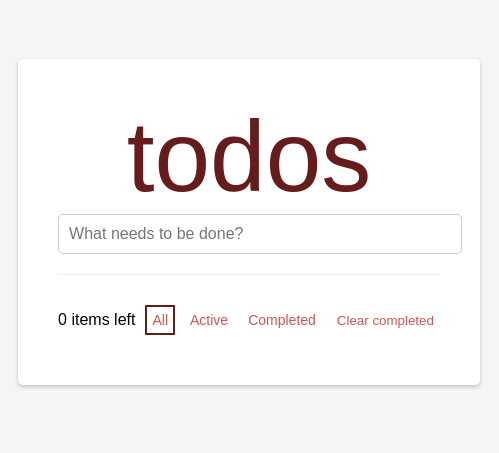
TodoViews › filters todos correctly
In the field with placeholder "What needs to be done?": {"x": 260, "y": 234} [58,214,462,254], type "First Todo"
Submit the form with test id "todo-form", box [58,214,440,254]
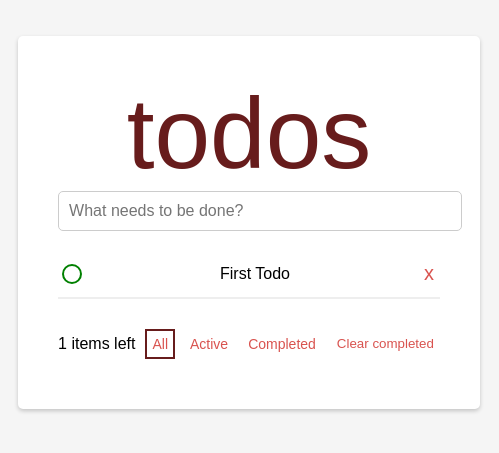
In the field with placeholder "What needs to be done?": {"x": 260, "y": 210} [58,190,462,230], type "Second Todo"
Submit the form with test id "todo-form", box [58,190,440,230]
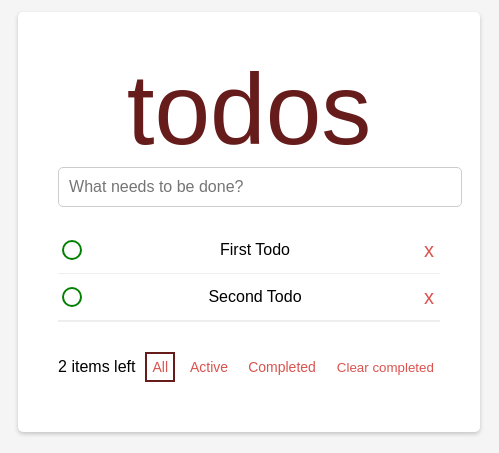
Click the checkbox next to "First Todo": {"x": 72, "y": 250} [62,240,82,260]
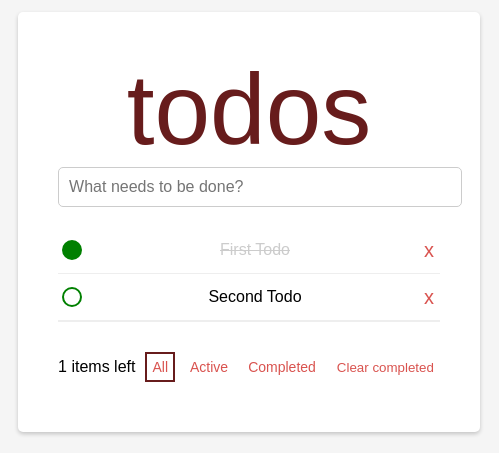
Click the button "Active": {"x": 209, "y": 367} [185,352,233,382]
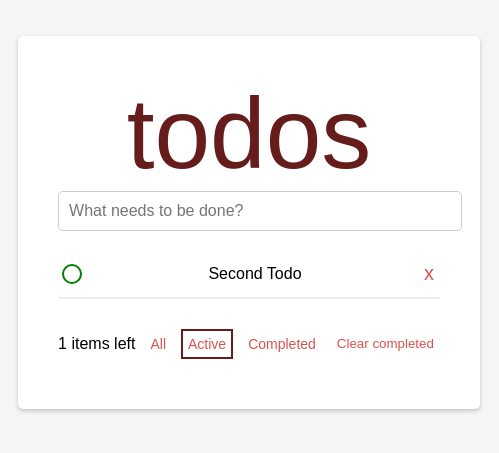
Now the text "Second Todo" is shown, box [208,264,302,282]
Now the text "First Todo" is gone
Click the button "Completed": {"x": 282, "y": 344} [243,328,321,358]
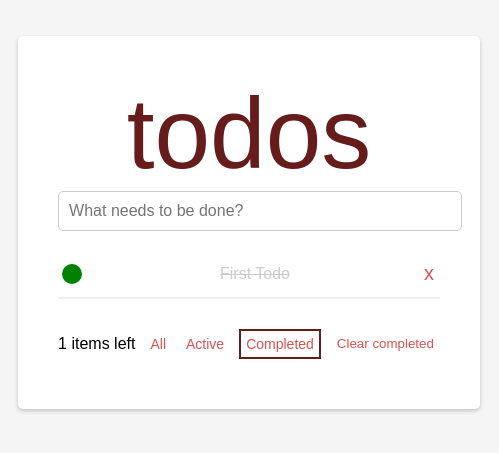
Now the text "First Todo" is shown, box [220,264,290,282]
Now the text "Second Todo" is gone
Click the button "All": {"x": 158, "y": 344} [146,328,171,358]
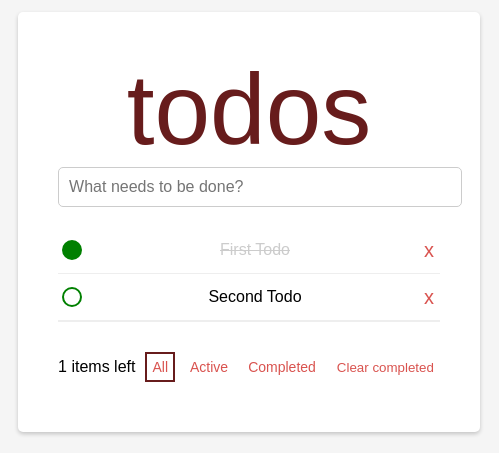
Now the text "First Todo" is shown, box [220,241,290,258]
Now the text "Second Todo" is shown, box [208,288,302,305]
